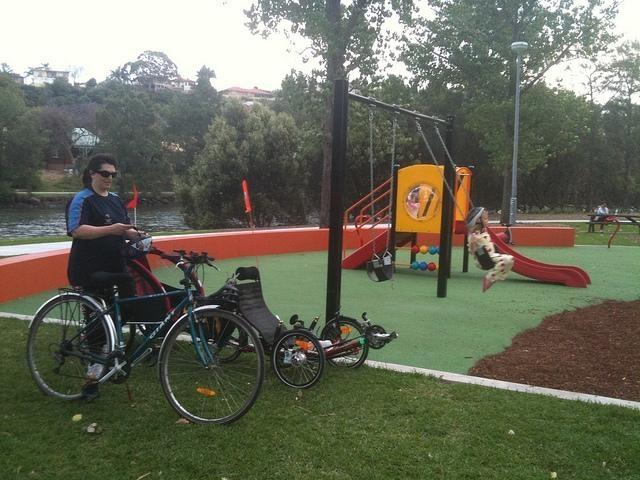bicycle: (25, 234, 264, 426), (273, 308, 399, 391)
